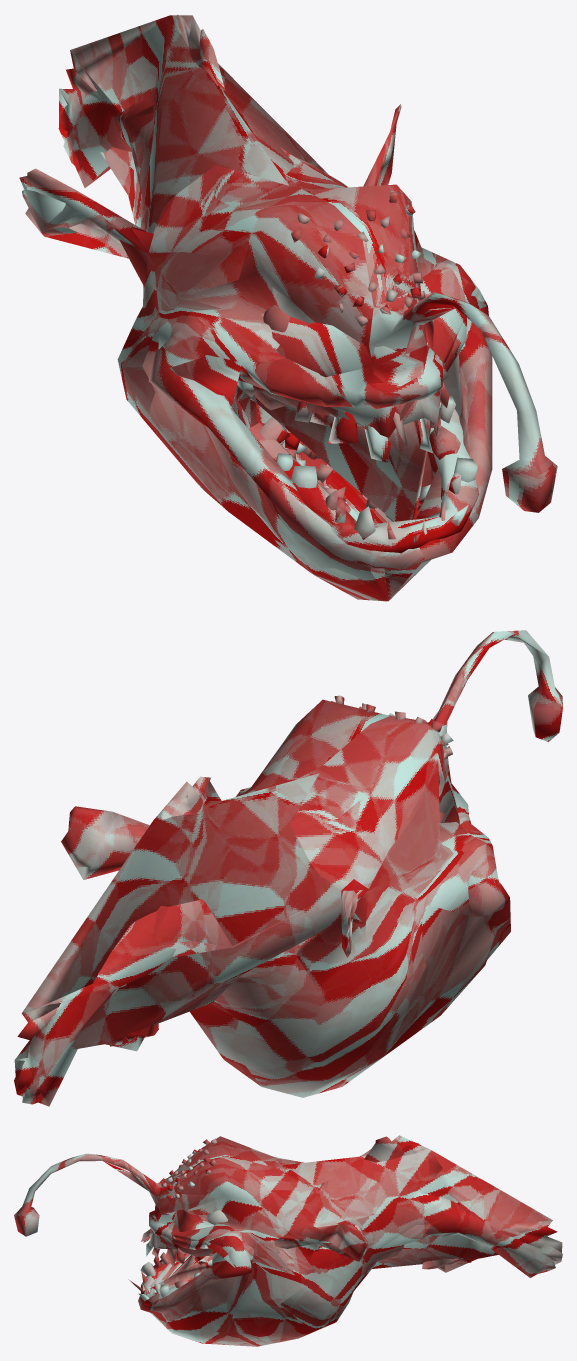
Rendered from item_squishy_gold_angler.glb.
3 views of the same model, one above another, from view 1: azimuth 30°, elevation 25°; view 2: azimuth 150°, elevation 25°; view 3: azimuth 270°, elevation 25° (orthographic). The views are drawn at different scales.
Visible parts, largest first — view 1: toy_angler; view 2: toy_angler; view 3: toy_angler.
Boxes of the visible parts, <box> form: toy_angler: <box>19,14,557,601</box>; toy_angler: <box>14,630,562,1106</box>; toy_angler: <box>14,1135,562,1346</box>.
Size of the model in its own units: 0.2331 by 0.2648 by 0.6006.
1 material, 1 textured.
